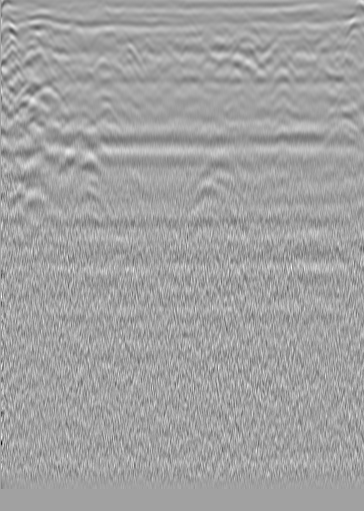가스: (65, 188, 105, 219)
상수: (317, 28, 337, 48)
오수: (3, 27, 23, 47)
우수: (155, 41, 175, 61)
